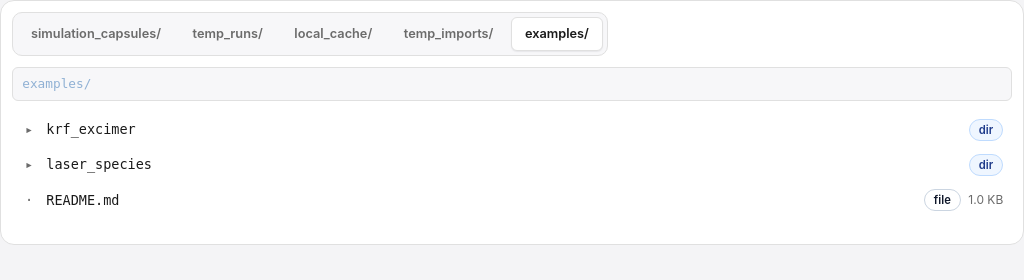
Test: FolderBrowser › descends into a directory on click
Click the text "krf_excimer".
click(91, 129)  # box [46, 121, 136, 137]
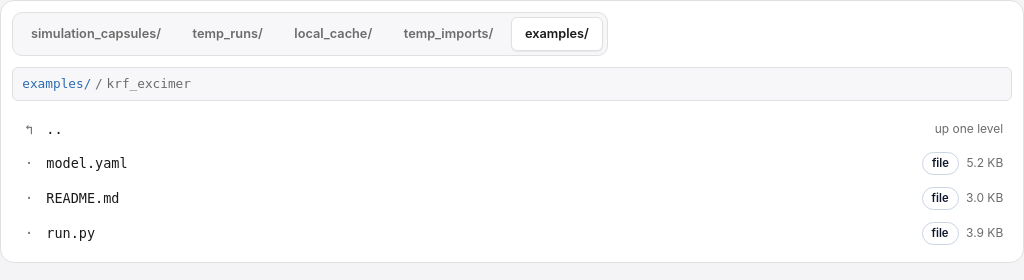
Check: the text "krf_excimer" is shown, box [106, 74, 191, 94]
Check: the text "model.yaml" is shown, box [46, 155, 128, 171]
Check: the text "run.py" is shown, box [46, 225, 95, 241]
